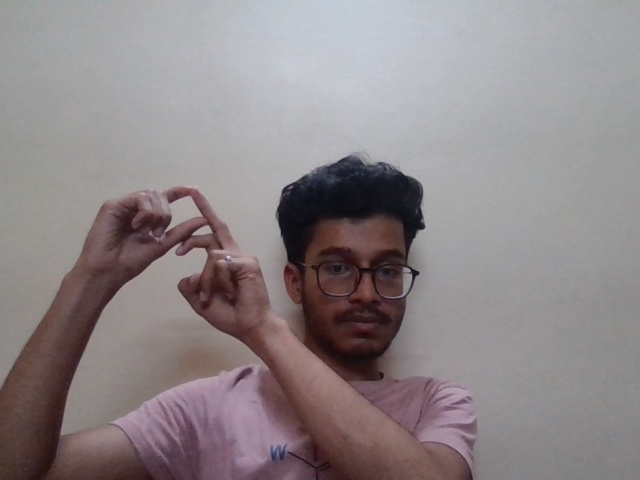R: (74, 180, 287, 345)
